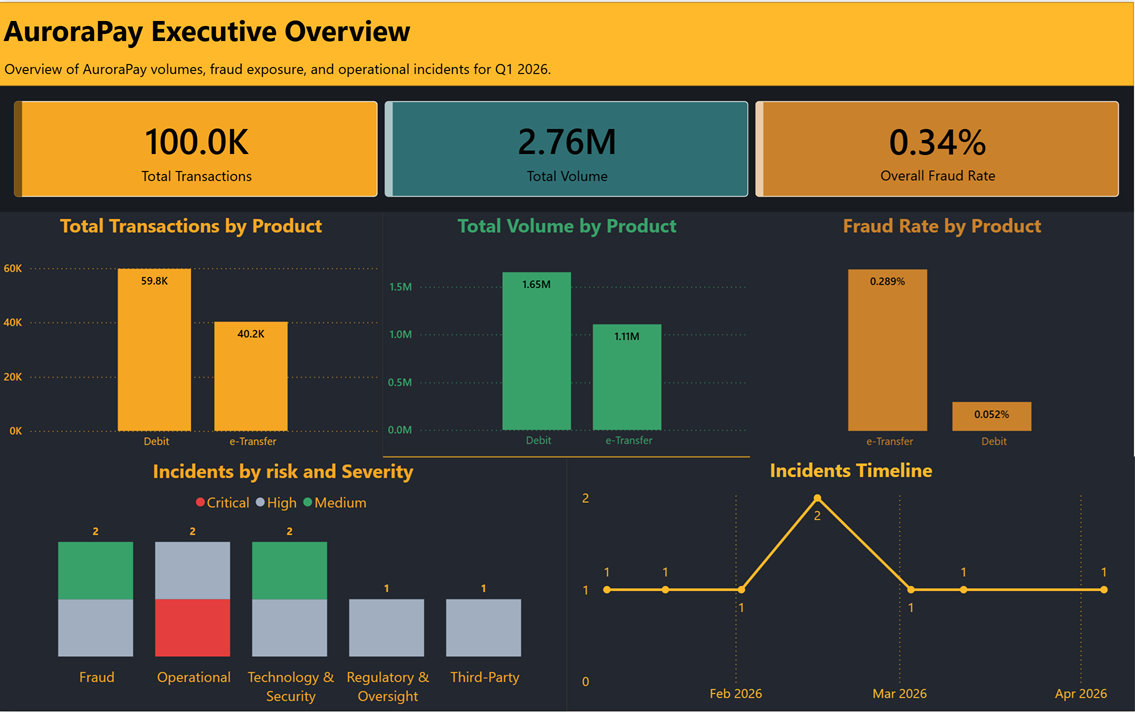

Layout of this report page (visuals, bound fields, positions):
{"tool":"powerbi","page":{"name":"Overview","canvas":[1280,800],"ordinal":0},"visuals":[{"type":"shape","title":"Title_Shape","box":[0,0,1280,94.7],"z":0,"group":"g3"},{"type":"shape","title":"Middle_Row_Shape","box":[0,237,1280,276.3],"z":0,"group":"g2"},{"type":"shape","title":"Bottom_Row_Shape","box":[0,513.1,1280,286.4],"z":0,"group":"g1"},{"type":"lineChart","title":"Incidents Timeline","fields":{"Category":["date_table.Date"],"Y":["Sum(incidents_timeline.incident_count)"]},"box":[640.6,512,640.6,287.6],"z":500,"group":"g1"},{"type":"textbox","title":"Subtitle_ Textbox","box":[1.1,58.6,898.8,36.1],"z":1000,"group":"g3"},{"type":"clusteredColumnChart","title":"Fraud Rate by Product","fields":{"Category":["kri_txn_by_product.product"],"Y":["Sum(kri_txn_by_product.fraud_rate)"]},"box":[846.9,237,433.1,276.3],"z":1000,"group":"g2"},{"type":"columnChart","title":"Incidents by risk and Severity","fields":{"Y":["Sum(incidents_by_risk.incident_count)"],"Category":["incidents_by_risk.risk_category"],"Series":["incidents_by_risk.severity"]},"box":[0,513.1,640.6,286.4],"z":1000,"group":"g1"},{"type":"group","id":"g1","title":"Bottom_Group","box":[0,512,1281.1,287.6],"z":1500},{"type":"textbox","title":"Title_ Textbox","box":[0,4.5,898.8,54.1],"z":2000,"group":"g3"},{"type":"group","id":"g2","title":"Middle_Group","box":[0,237,1280,276.3],"z":2000},{"type":"clusteredColumnChart","title":"Total Volume by Product","fields":{"Category":["kri_txn_by_product.product"],"Y":["Sum(kri_txn_by_product.txn_volume)"]},"box":[433.1,237,415,275.2],"z":2000,"group":"g2"},{"type":"cardVisual","title":"KPI_Card","fields":{"Data":["CountNonNull(transactions_clean.transaction_id)","Sum(transactions_clean.amount)","all_measures.Overall_Fraud_Rate"]},"box":[0,94.7,1280,142.1],"z":3000},{"type":"clusteredColumnChart","title":"Total Transactions by Product","fields":{"Category":["kri_txn_by_product.product"],"Y":["Sum(kri_txn_by_product.txn_count)"]},"box":[0,237,433.1,276.3],"z":3000,"group":"g2"},{"type":"group","id":"g3","title":"Title_Group","box":[0,0,1280,94.7],"z":4000}]}

Visuals, with their boxes in screenshot pixels (x1, y1, x2, y2), scaled from the page's 1280x800 canvas onto the 1135x712 screenshot:
"Title_Shape" shape: bbox=[0, 0, 1134, 84]
"Middle_Row_Shape" shape: bbox=[0, 211, 1134, 457]
"Bottom_Row_Shape" shape: bbox=[0, 457, 1134, 711]
"Incidents Timeline" lineChart: bbox=[568, 456, 1134, 711]
"Subtitle_ Textbox" textbox: bbox=[1, 52, 798, 84]
"Fraud Rate by Product" clusteredColumnChart: bbox=[751, 211, 1134, 457]
"Incidents by risk and Severity" columnChart: bbox=[0, 457, 568, 711]
"Bottom_Group" group: bbox=[0, 456, 1134, 711]
"Title_ Textbox" textbox: bbox=[0, 4, 797, 52]
"Middle_Group" group: bbox=[0, 211, 1134, 457]
"Total Volume by Product" clusteredColumnChart: bbox=[384, 211, 752, 456]
"KPI_Card" cardVisual: bbox=[0, 84, 1134, 211]
"Total Transactions by Product" clusteredColumnChart: bbox=[0, 211, 384, 457]
"Title_Group" group: bbox=[0, 0, 1134, 84]
